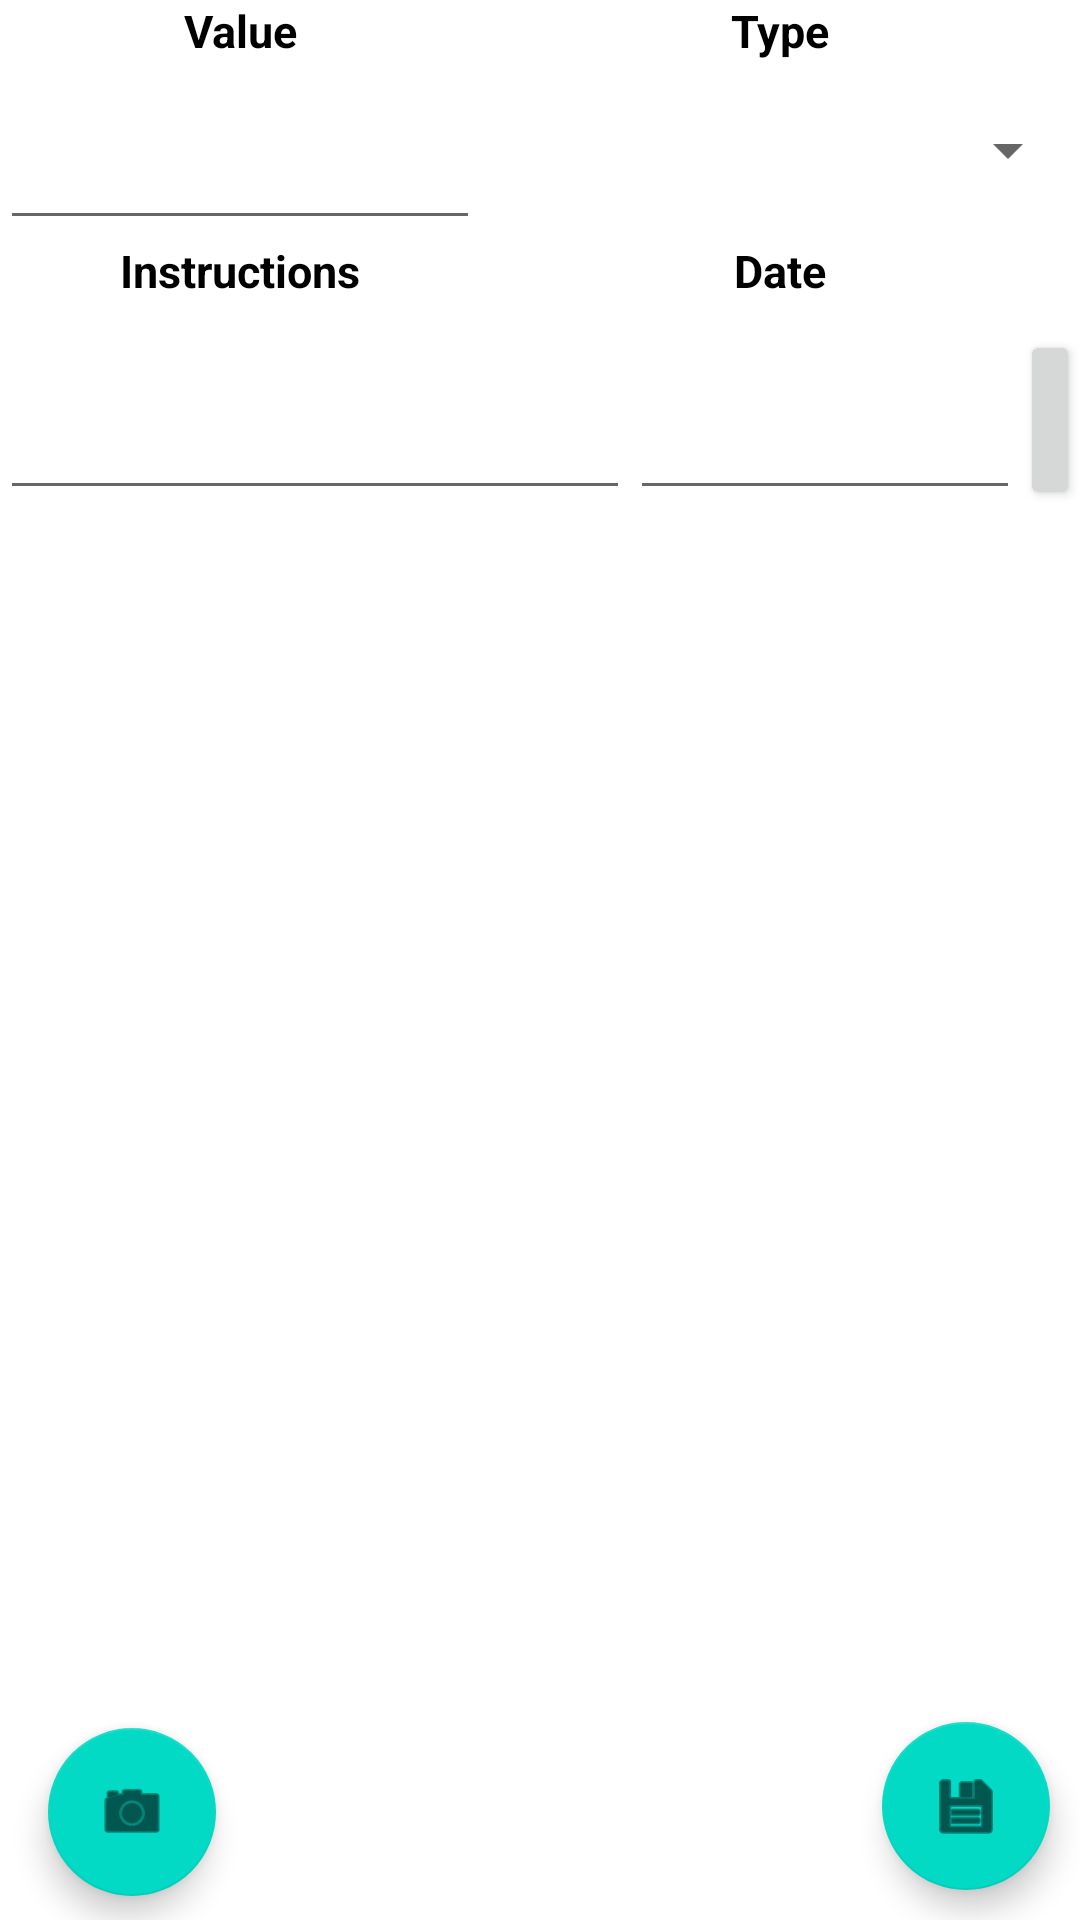

Named icons in this screenshot (1080×1920) and their centers, (x,y):
camera: (132,1812)
submit: (966,1806)
